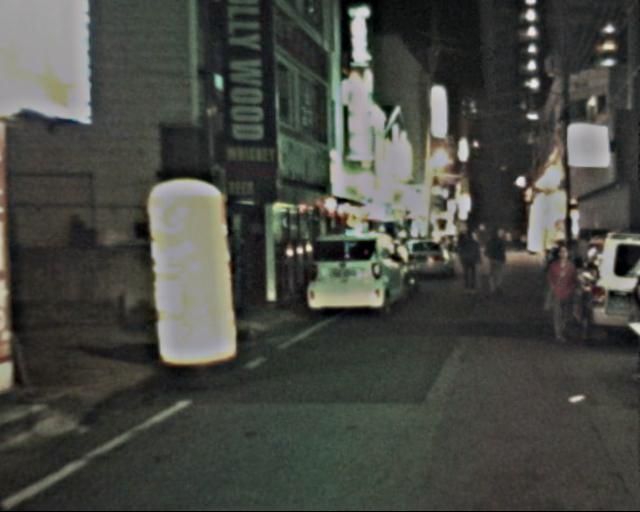person: (541, 245, 584, 345), (456, 229, 491, 301), (482, 229, 514, 298)
